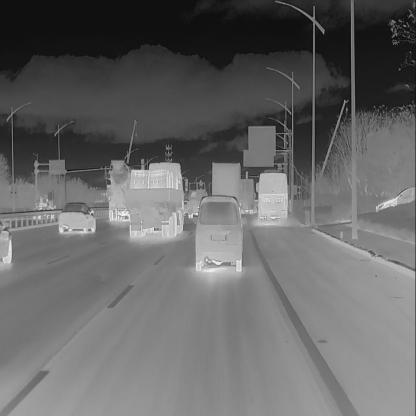bus: (255, 170, 290, 225)
car: (194, 194, 244, 273), (370, 184, 416, 216), (56, 201, 97, 235), (0, 212, 13, 265), (32, 197, 53, 221)
truck: (123, 159, 185, 241), (104, 158, 134, 223), (186, 179, 209, 219), (238, 177, 256, 215)
